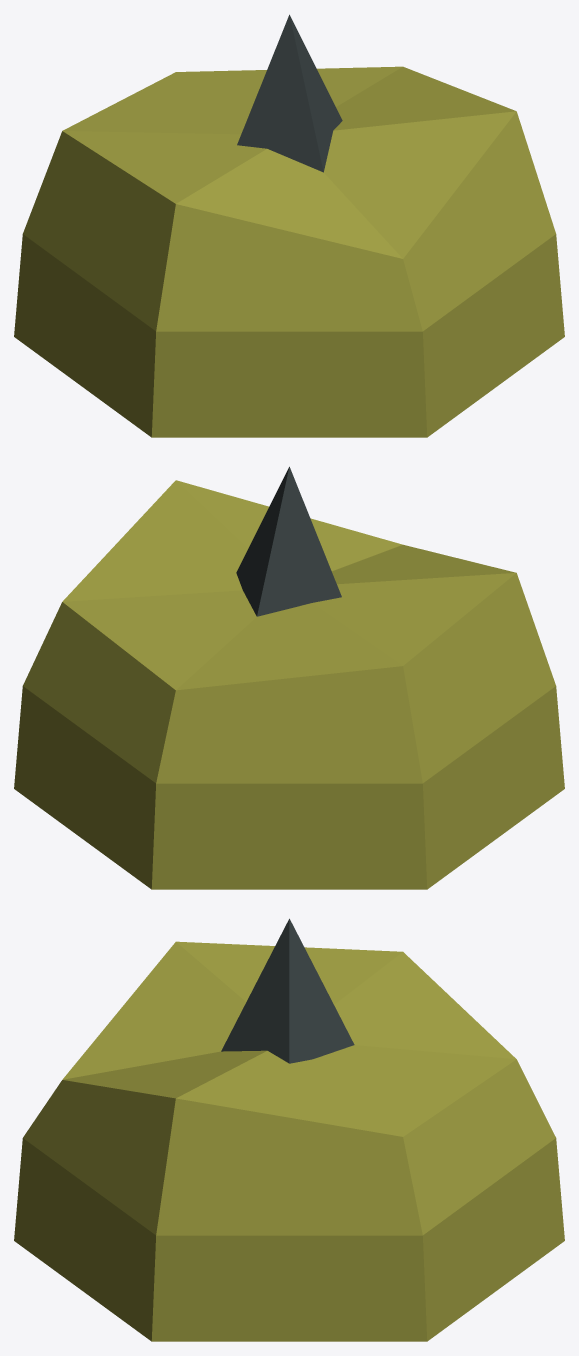
File: Candle_2_Yellow.fbx
3 views of the same model, one above another, from view 1: azimuth 30°, elevation 25°; view 2: azimuth 150°, elevation 25°; view 3: azimuth 270°, elevation 25° (orthographic).
Visible parts, largest first — view 1: Candle_2_Yellow; view 2: Candle_2_Yellow; view 3: Candle_2_Yellow.
Part boxes in pixels (x1,y1,x2,y2): Candle_2_Yellow: [14, 14, 564, 437]; Candle_2_Yellow: [14, 466, 564, 889]; Candle_2_Yellow: [14, 918, 564, 1341].
Size of the model in its own units: 14.7 by 10.96 by 16.97.
